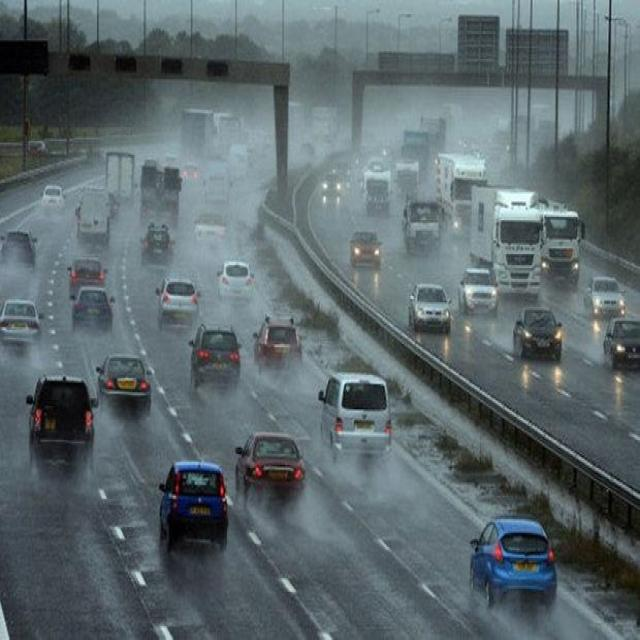Car: (470, 516, 559, 617), (18, 368, 100, 476), (317, 372, 392, 466), (157, 458, 229, 552), (234, 431, 306, 511), (188, 322, 242, 390), (96, 353, 152, 417), (254, 313, 304, 373), (513, 305, 563, 361), (186, 206, 235, 257), (156, 276, 200, 330), (407, 282, 452, 334), (70, 286, 116, 336), (0, 297, 41, 350), (581, 273, 628, 318), (218, 260, 260, 309), (602, 316, 640, 369), (459, 267, 499, 316), (67, 257, 108, 299), (141, 221, 175, 266), (0, 230, 37, 270), (349, 230, 381, 270), (40, 179, 68, 221), (320, 166, 348, 206)
Truck: (471, 190, 538, 298), (432, 154, 490, 232), (536, 199, 588, 285), (178, 107, 247, 164), (137, 154, 183, 223), (398, 195, 449, 254), (101, 148, 137, 205), (395, 132, 431, 188), (360, 161, 397, 213), (418, 112, 446, 156)
Van: (75, 188, 112, 245)
